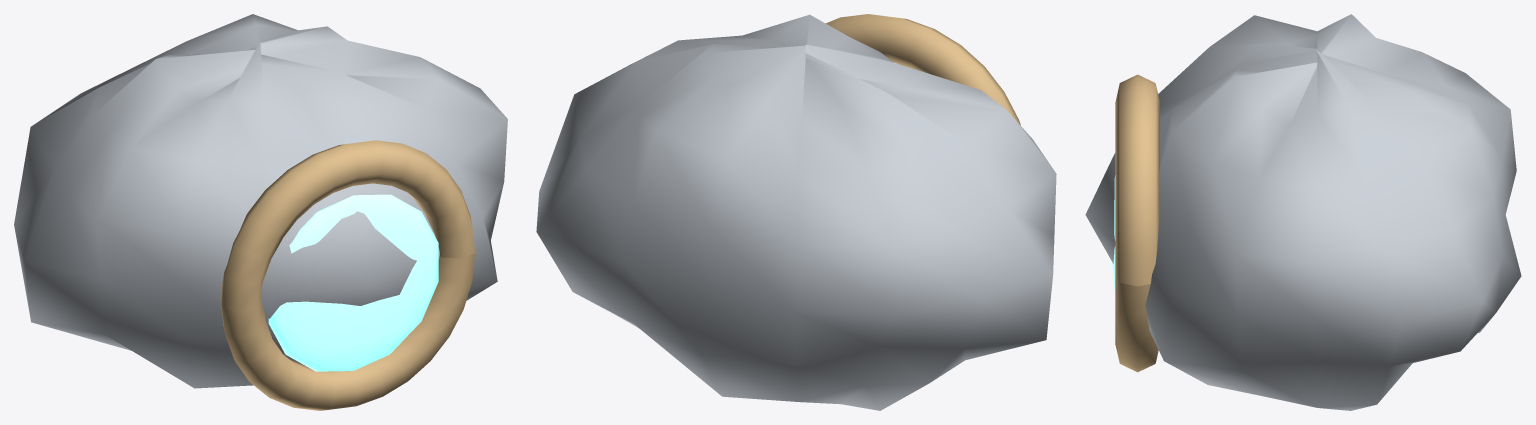
File: scat_hollow_moonstone.glb
3 views of the same model, side by side, from view 1: azimuth 30°, elevation 25°; view 2: azimuth 150°, elevation 25°; view 3: azimuth 270°, elevation 25° (orthographic). The views are drawn at different scales.
Parts seen in each view (by area): view 1: SCAT_hollow_moonstone_body, SCAT_hollow_moonstone_cavity_lip, SCAT_hollow_moonstone_cavity_light; view 2: SCAT_hollow_moonstone_body, SCAT_hollow_moonstone_cavity_lip; view 3: SCAT_hollow_moonstone_body, SCAT_hollow_moonstone_cavity_lip.
Part boxes in pixels (<box>): SCAT_hollow_moonstone_body: <box>14,14,507,388</box>; SCAT_hollow_moonstone_cavity_lip: <box>220,140,475,410</box>; SCAT_hollow_moonstone_cavity_light: <box>268,194,438,371</box>; SCAT_hollow_moonstone_body: <box>536,14,1056,410</box>; SCAT_hollow_moonstone_cavity_lip: <box>826,14,1020,125</box>; SCAT_hollow_moonstone_body: <box>1085,14,1521,410</box>; SCAT_hollow_moonstone_cavity_lip: <box>1115,74,1159,372</box>.
Bounding box in the file's own units: 1.41 × 0.9737 × 1.14.
